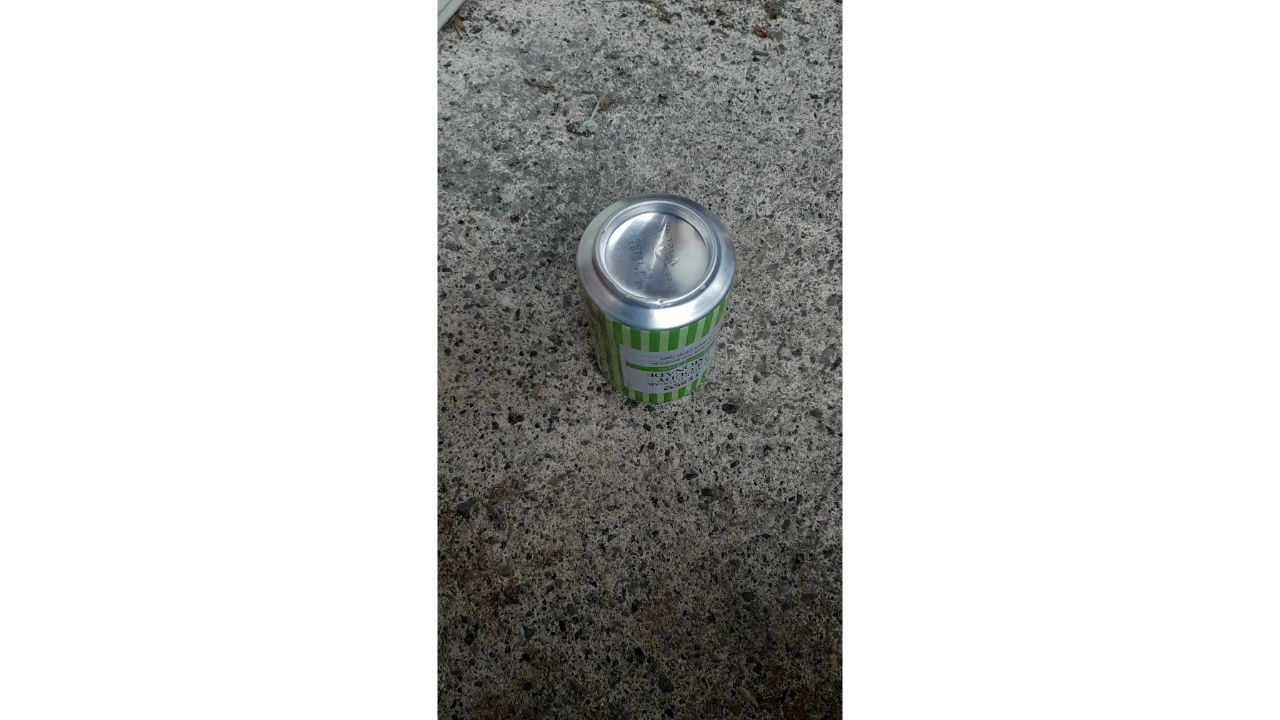Can: (557, 170, 749, 435)
